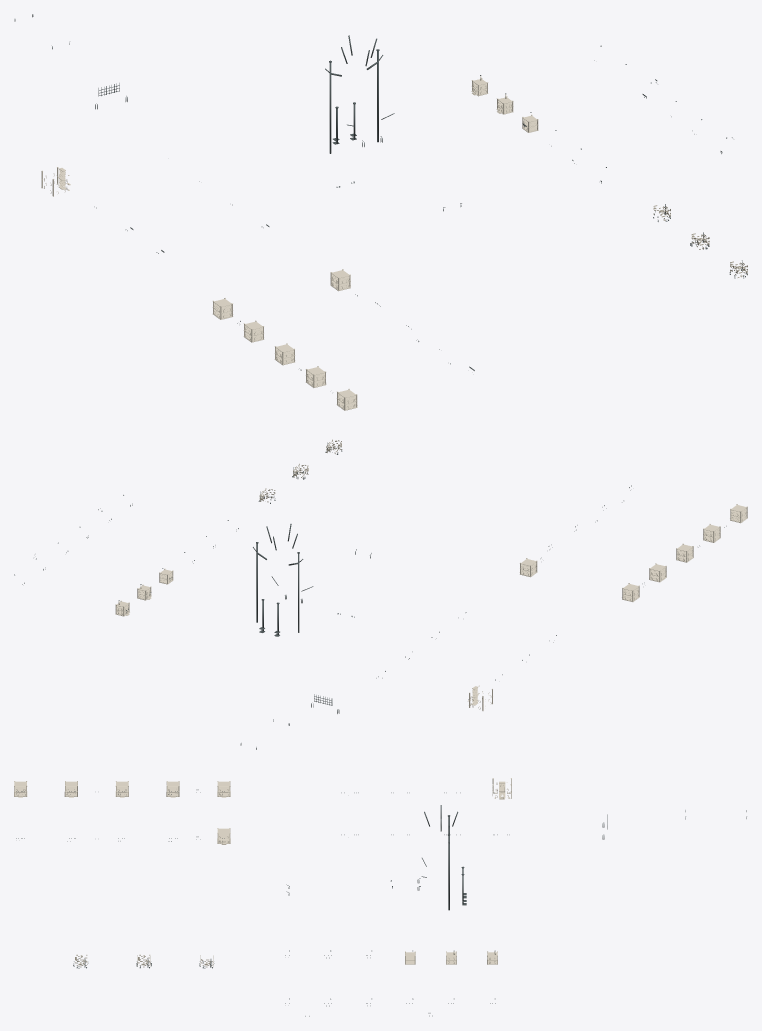
Rendered from Neris-13.glb.
The picture shows the model from 3 angles, top to bottom: view 1: azimuth 30°, elevation 25°; view 2: azimuth 150°, elevation 25°; view 3: azimuth 270°, elevation 25°; orthographic projection. The views are drawn at different scales.
Visible parts, largest first — view 1: Pale Carved Stone, Patinated Iron; view 2: Pale Carved Stone, Patinated Iron; view 3: Pale Carved Stone, Patinated Iron.
Boxes of the visible parts, x1=… form: Pale Carved Stone: x1=41, y1=76, x2=538, y2=410; Patinated Iron: x1=14, y1=14, x2=747, y2=370; Pale Carved Stone: x1=115, y1=504, x2=747, y2=710; Patinated Iron: x1=14, y1=442, x2=726, y2=749; Pale Carved Stone: x1=14, y1=778, x2=511, y2=964; Patinated Iron: x1=16, y1=789, x2=746, y2=1016.
Size of the model in its own units: 444 by 82.1 by 607.
